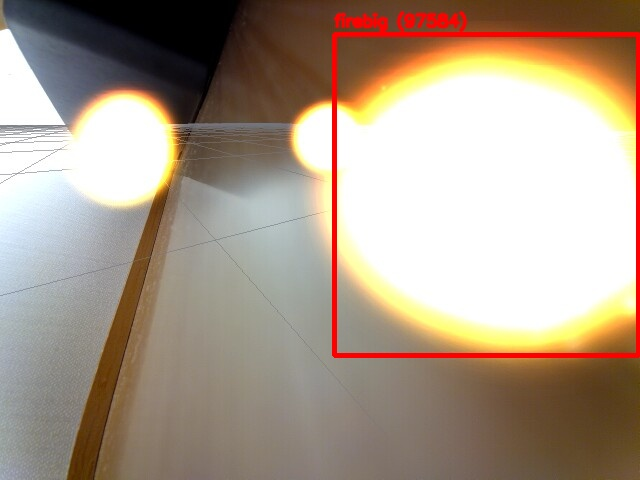firebig: (334, 34, 638, 355)
